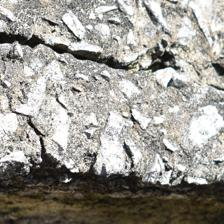Crack: (2, 14, 143, 61)
